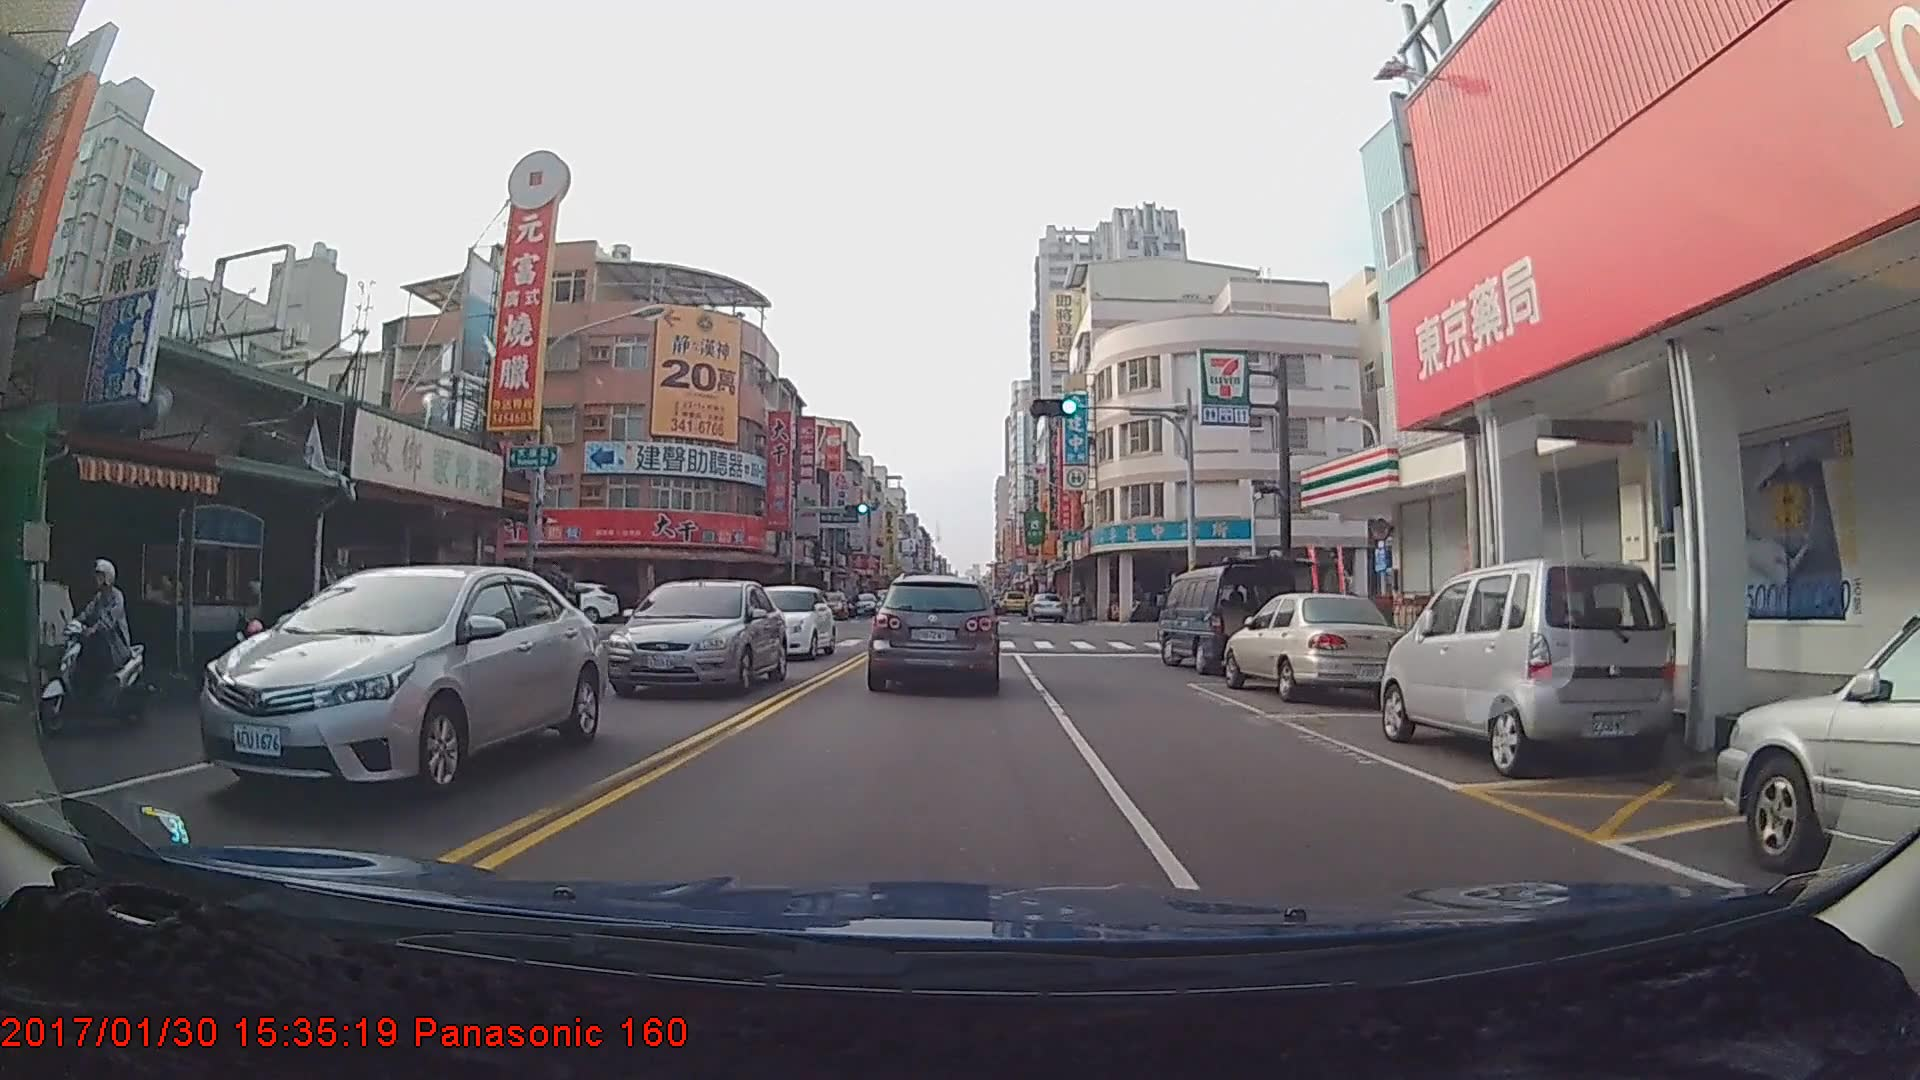rider: (32, 558, 153, 735)
vehicle: (195, 562, 609, 808), (1715, 590, 1920, 912), (1390, 554, 1670, 775), (614, 576, 784, 697), (1223, 591, 1400, 704), (1155, 564, 1298, 677), (871, 572, 999, 691), (741, 583, 835, 659), (811, 587, 846, 620), (1027, 591, 1065, 620), (846, 593, 879, 616), (1000, 590, 1029, 612)
